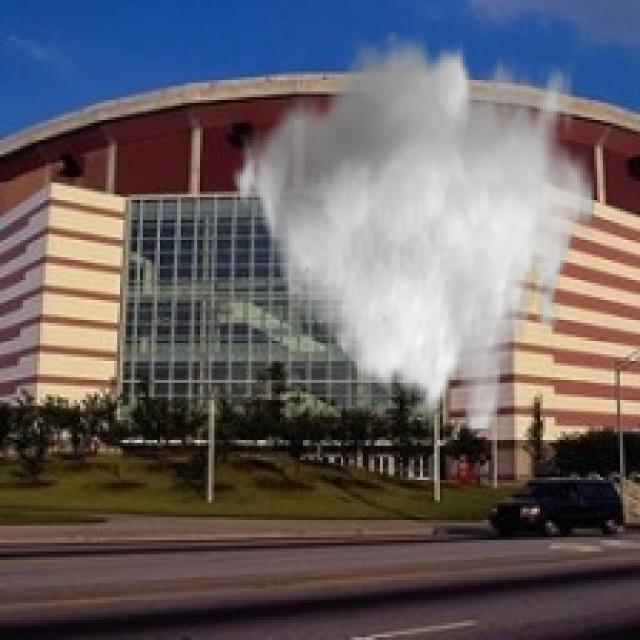smoke: (226, 31, 594, 432)
